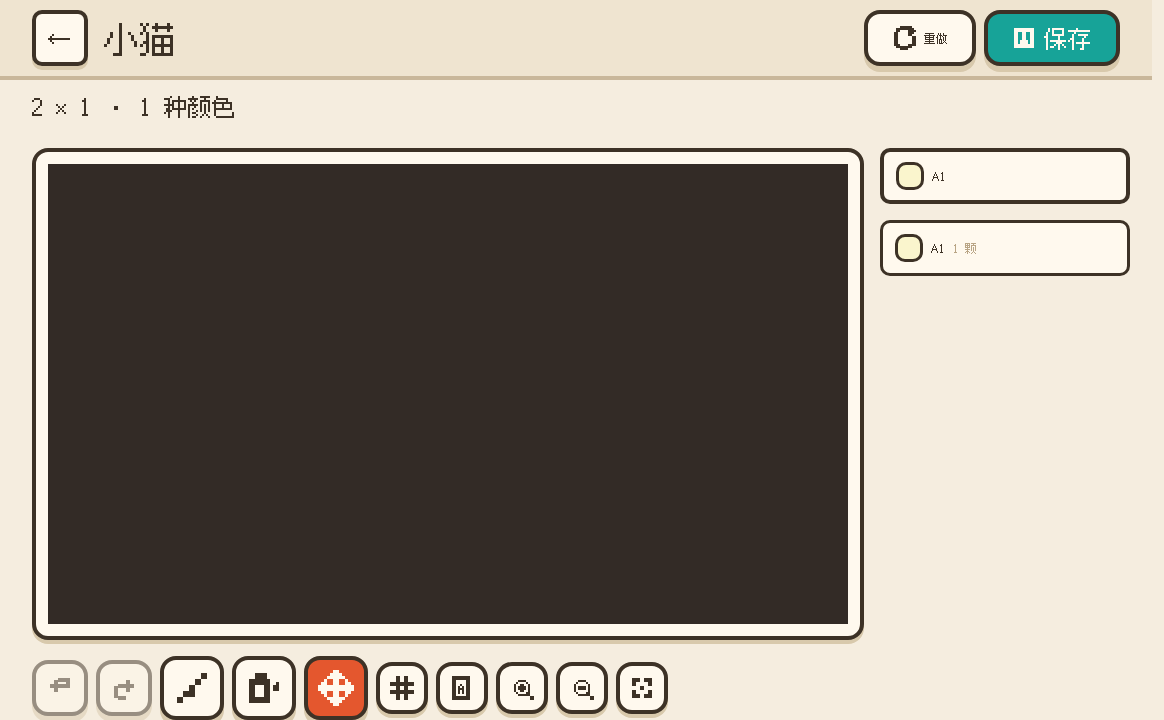
保存 › 保存失败**不**跳转（留在编辑器给重试）
Click the button with test id "editor-save" at (1052, 38), box [984, 10, 1120, 66]
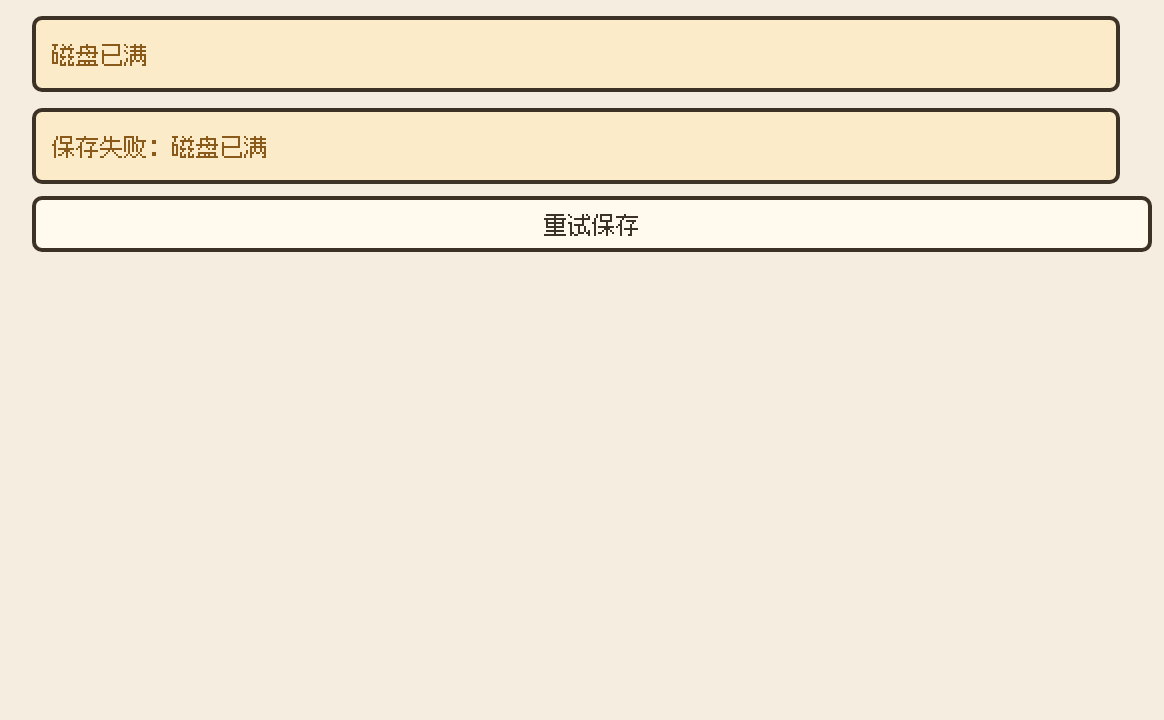
Now the text "保存失败：磁盘已满" is shown, box [32, 108, 1120, 184]
Now the button with test id "retry-save" is shown, box [32, 196, 1152, 252]
